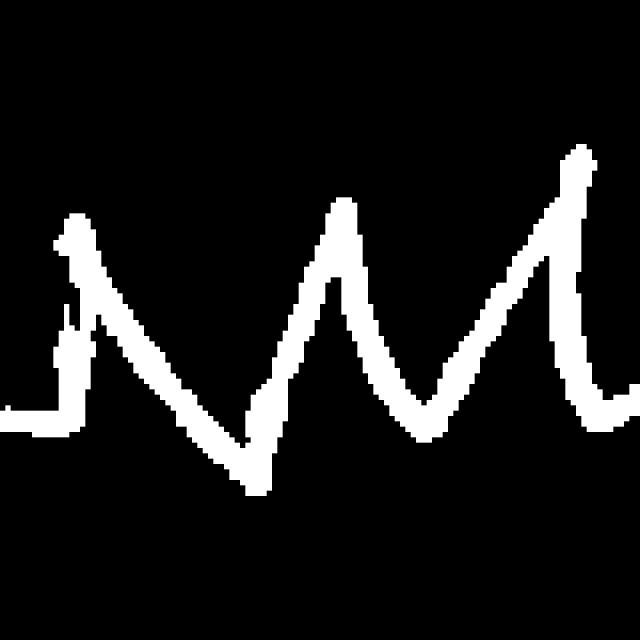resistor: (45, 140, 617, 503)
